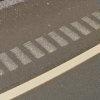Crosswalk: (3, 23, 97, 76)
